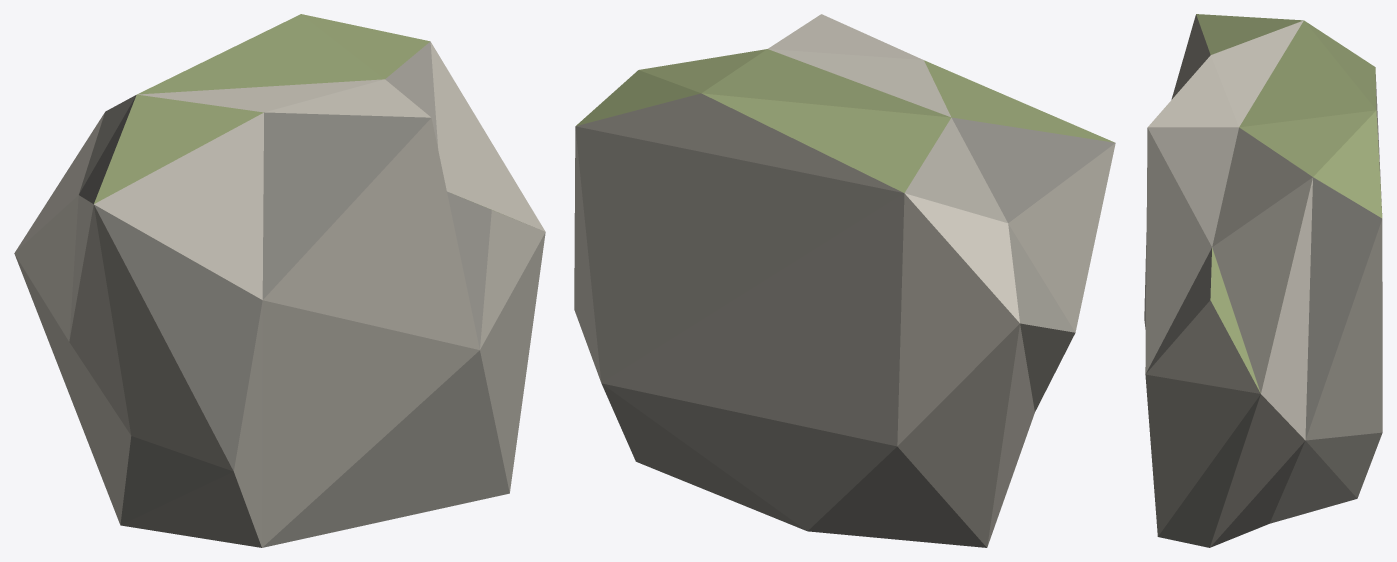
File: Cliff_Rock_3.glb
3 views of the same model, side by side, from view 1: azimuth 30°, elevation 25°; view 2: azimuth 150°, elevation 25°; view 3: azimuth 270°, elevation 25° (orthographic). The views are drawn at different scales.
Parts seen in each view (by area): view 1: Cliff_Rock_3; view 2: Cliff_Rock_3; view 3: Cliff_Rock_3.
Part boxes in pixels (x1=…): Cliff_Rock_3: x1=14, y1=14, x2=545, y2=547; Cliff_Rock_3: x1=574, y1=14, x2=1115, y2=547; Cliff_Rock_3: x1=1144, y1=14, x2=1382, y2=547.
Size of the model in its own units: 2.42 by 2.04 by 1.11.
